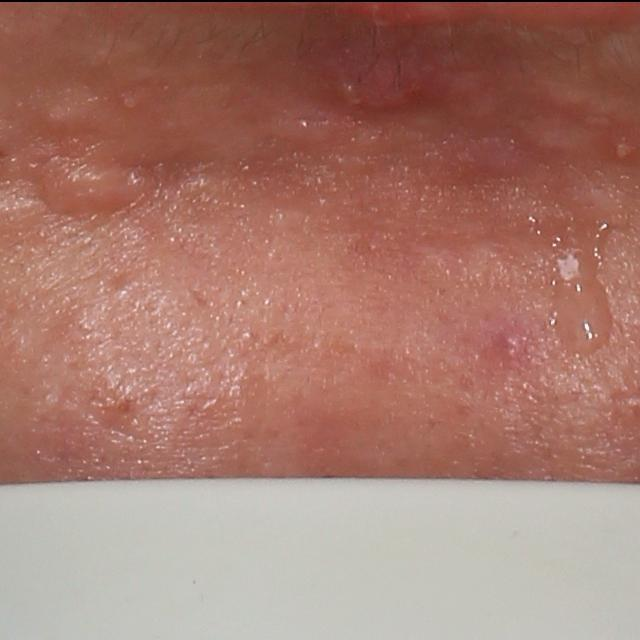hypertrophic_scar: (32, 155, 147, 217), (246, 98, 339, 152), (36, 84, 106, 138), (568, 178, 635, 232), (523, 120, 601, 162), (539, 79, 600, 115)
papule: (329, 48, 430, 117), (491, 328, 529, 368)
